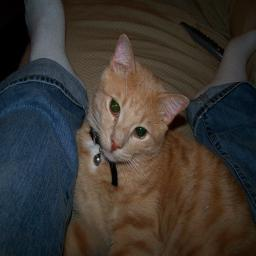catnose: (107, 132, 126, 153)
